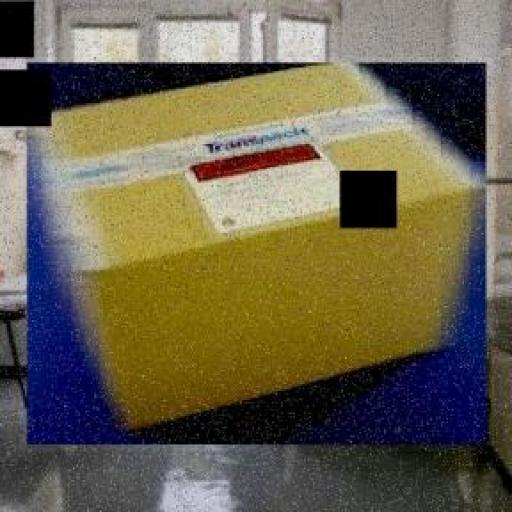box: (20, 57, 494, 451)
